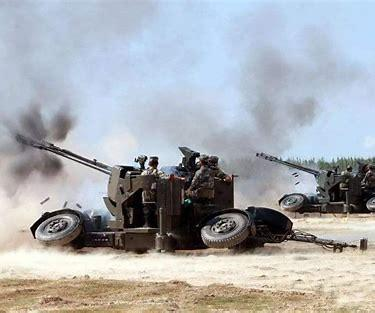MIL_SPG: (16, 135, 293, 251), (256, 153, 375, 212)
